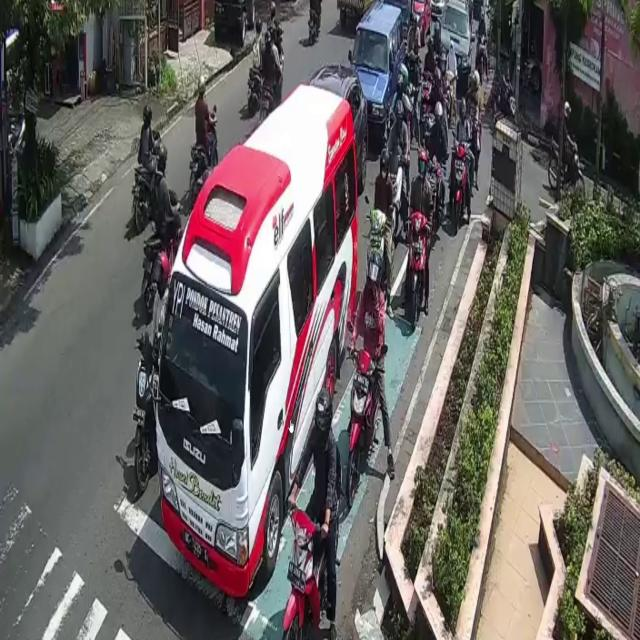bus: (285, 501, 332, 640), (349, 347, 380, 502), (145, 202, 182, 315), (134, 344, 159, 492), (547, 125, 587, 212), (133, 126, 166, 225), (363, 209, 390, 312), (192, 114, 218, 198), (409, 216, 427, 329), (452, 143, 468, 227)
car: (157, 82, 358, 594)
motorcycle: (351, 0, 407, 144), (312, 62, 370, 184), (438, 0, 474, 94)
